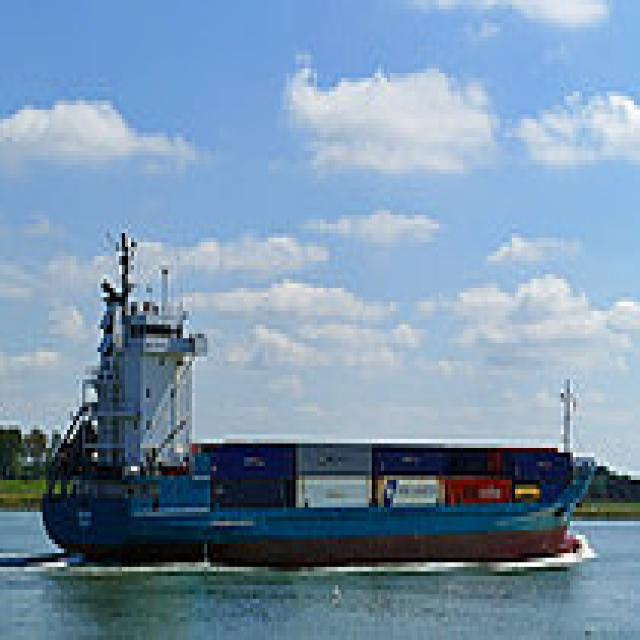Cargo: (34, 219, 598, 558)
